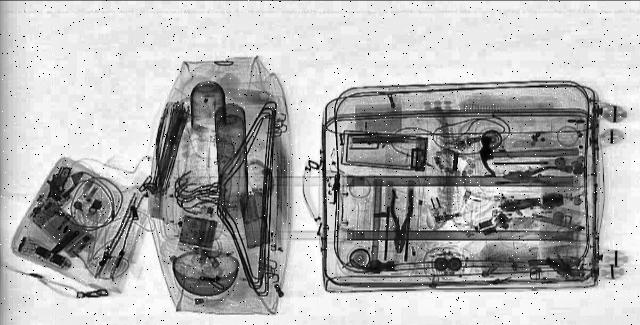Pliers: (386, 189, 414, 252), (505, 166, 565, 182)
